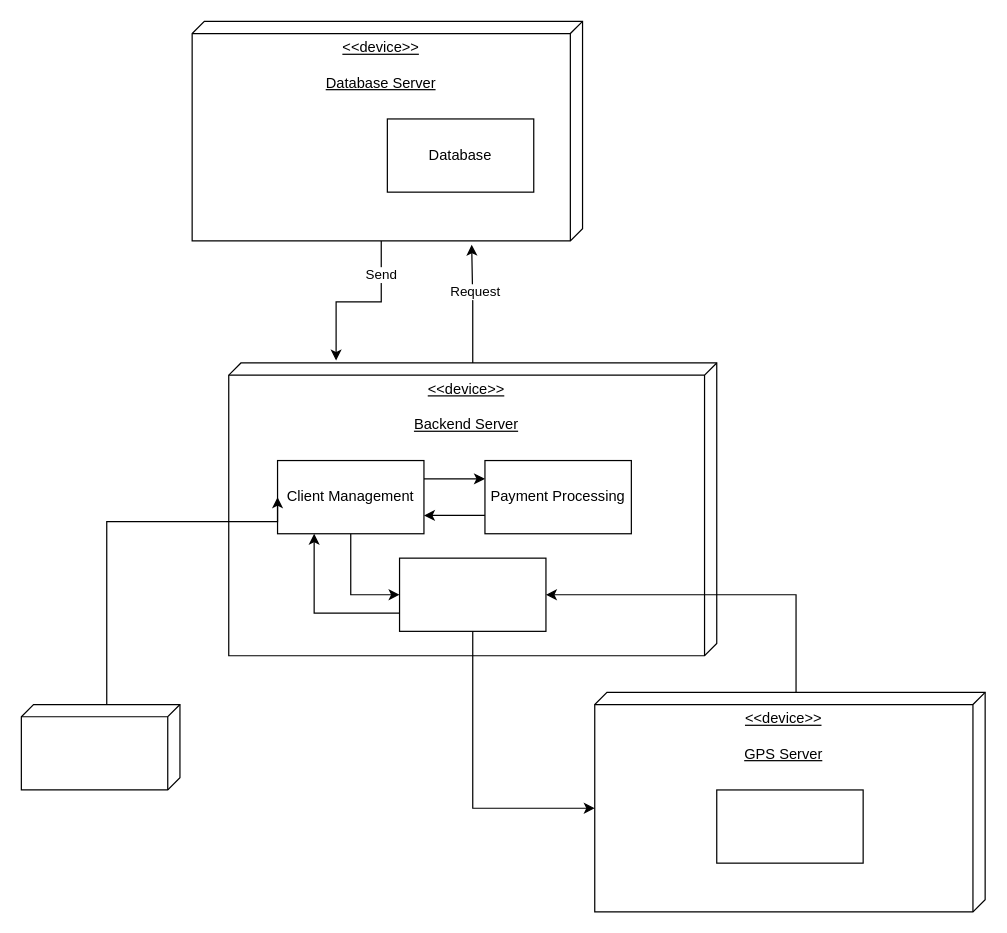
The diagram is 1007 pixels wide and 933 high, and some of its shapes have lost their labels. Each missing label, with the centre of its shape:
Location Data: the point at 789,826
Mobile Clients: the point at 100,746
Real-Time Tracking: the point at 472,594
